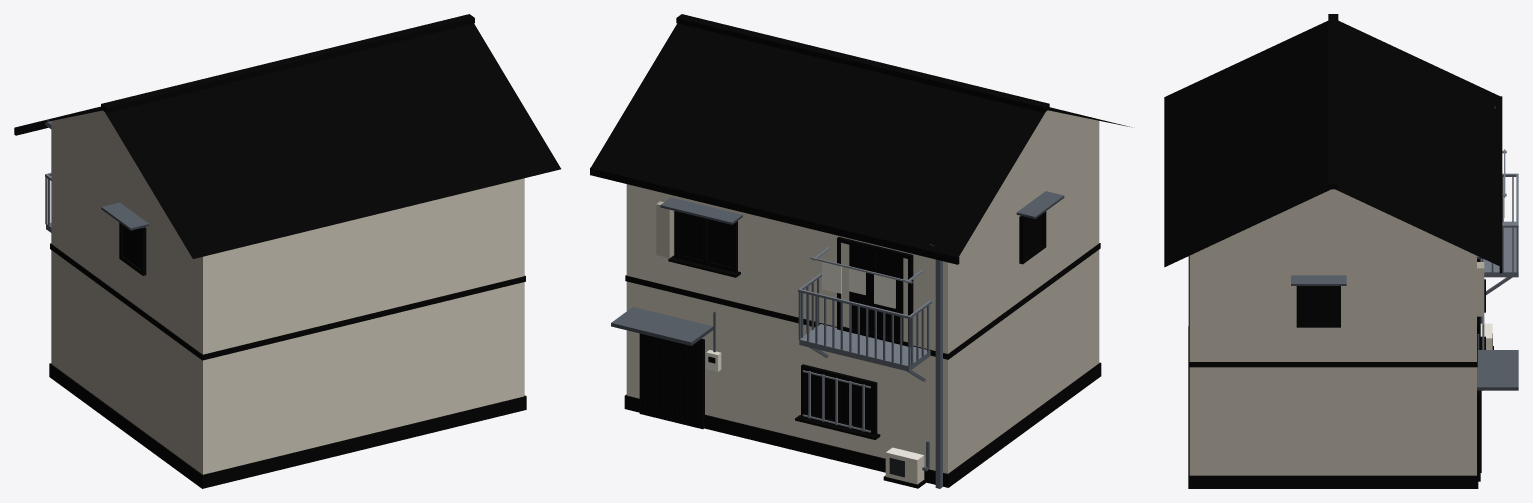
Rendered from House_C.fbx.
The picture shows the model from 3 angles, left to right: view 1: azimuth 30°, elevation 25°; view 2: azimuth 150°, elevation 25°; view 3: azimuth 270°, elevation 25°; orthographic projection. The views are drawn at different scales.
Visible parts, largest first — view 1: Body.002, Roof.002, Footing.002, Belt.002, Gables.002, Hoods.002, Glass.002, WinFrame.002; view 2: Body.002, Roof.002, Glass.002, Balcony.001, Footing.002, WinFrame.002, Gables.002, Belt.002, Hood.002, Pipes.002, Door.002, Hoods.002 (+10 smaller); view 3: Body.002, Roof.002, Gables.002, Footing.002, Belt.002, Hood.002, Balcony.001, Glass.002, WinFrame.002, Hoods.002, Shutterbox.002.
Part boxes in pixels (box(x1,y1,x2,y2)): Body.002: box(51, 121, 524, 474); Roof.002: box(14, 14, 560, 258); Footing.002: box(49, 363, 526, 488); Belt.002: box(50, 243, 525, 360); Gables.002: box(52, 110, 154, 195); Hoods.002: box(101, 202, 149, 230); Glass.002: box(123, 225, 140, 268); WinFrame.002: box(119, 222, 146, 275); Body.002: box(626, 120, 1099, 473); Roof.002: box(590, 14, 1132, 264); Glass.002: box(645, 214, 1042, 412); Balcony.001: box(798, 273, 931, 381); Footing.002: box(624, 362, 1101, 487); WinFrame.002: box(668, 211, 1046, 439); Gables.002: box(995, 110, 1097, 195); Belt.002: box(625, 243, 1100, 359); Hood.002: box(611, 307, 713, 345); Pipes.002: box(713, 244, 942, 488); Door.002: box(639, 333, 704, 429); Hoods.002: box(660, 191, 1064, 224); Body.002: box(1189, 245, 1476, 475); Roof.002: box(1164, 14, 1502, 273); Gables.002: box(1213, 189, 1453, 244); Footing.002: box(1188, 326, 1478, 488); Belt.002: box(1188, 256, 1477, 367); Hood.002: box(1477, 350, 1518, 390); Balcony.001: box(1480, 173, 1518, 294); Glass.002: box(1300, 286, 1480, 464); WinFrame.002: box(1296, 259, 1485, 349); Hoods.002: box(1291, 256, 1483, 285); Shutterbox.002: box(1477, 262, 1484, 316).
Bounding box in the file's own units: 8.7 × 7.5 × 7.66.
